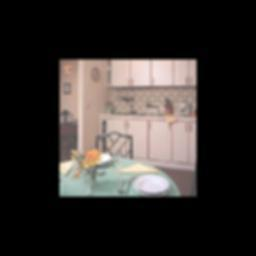Lavaplatos: (119, 104, 146, 118)
